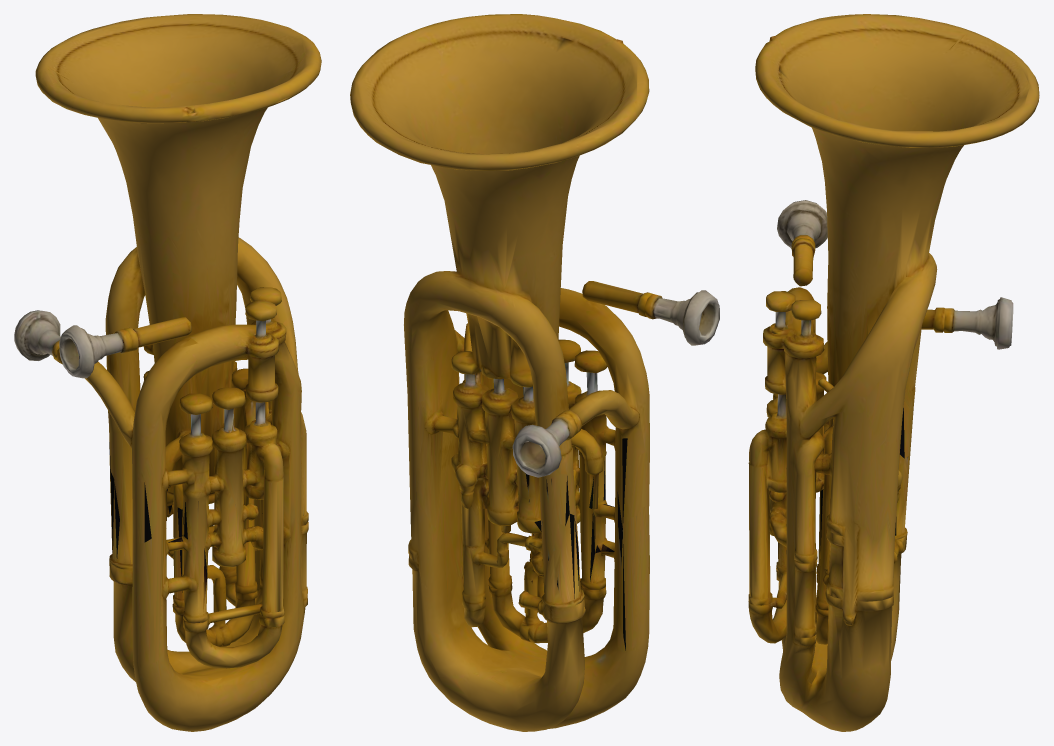
The model's file is tuba_de_laton.glb.
3 renders of one model, left to right at view 1: azimuth 30°, elevation 25°; view 2: azimuth 150°, elevation 25°; view 3: azimuth 270°, elevation 25°, orthographic. The views are drawn at different scales.
Visible parts, largest first — view 1: tuba_de_laton; view 2: tuba_de_laton; view 3: tuba_de_laton.
Part boxes in pixels (x1,y1,x2,y2): tuba_de_laton: (14, 14, 321, 731); tuba_de_laton: (350, 14, 719, 731); tuba_de_laton: (748, 14, 1039, 731).
Size of what is drawn, in the model's own units: 0.4046 by 0.8997 by 0.3617.
1 material, 1 textured.
